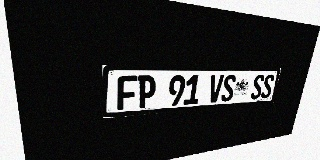1: (183, 75, 201, 105)
9: (167, 75, 186, 106)
F: (117, 76, 137, 110)
P: (137, 75, 156, 109)
S: (220, 75, 237, 102), (250, 75, 265, 100), (260, 74, 275, 99)
V: (207, 75, 224, 103)
